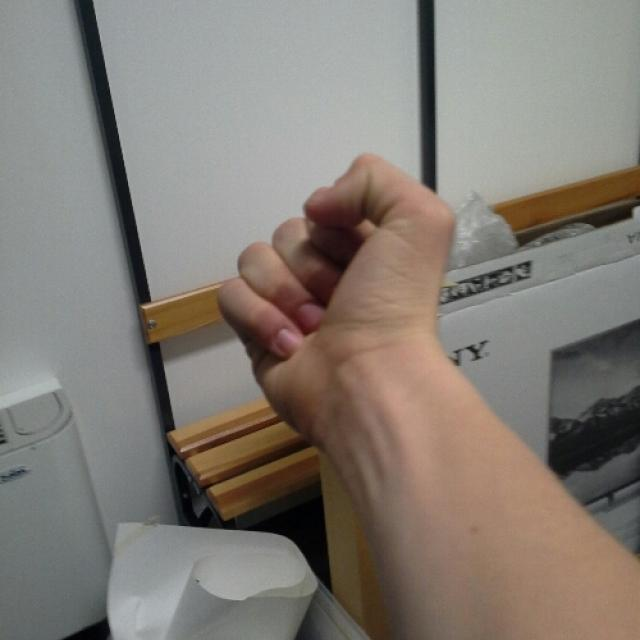rock: (222, 151, 457, 432)
